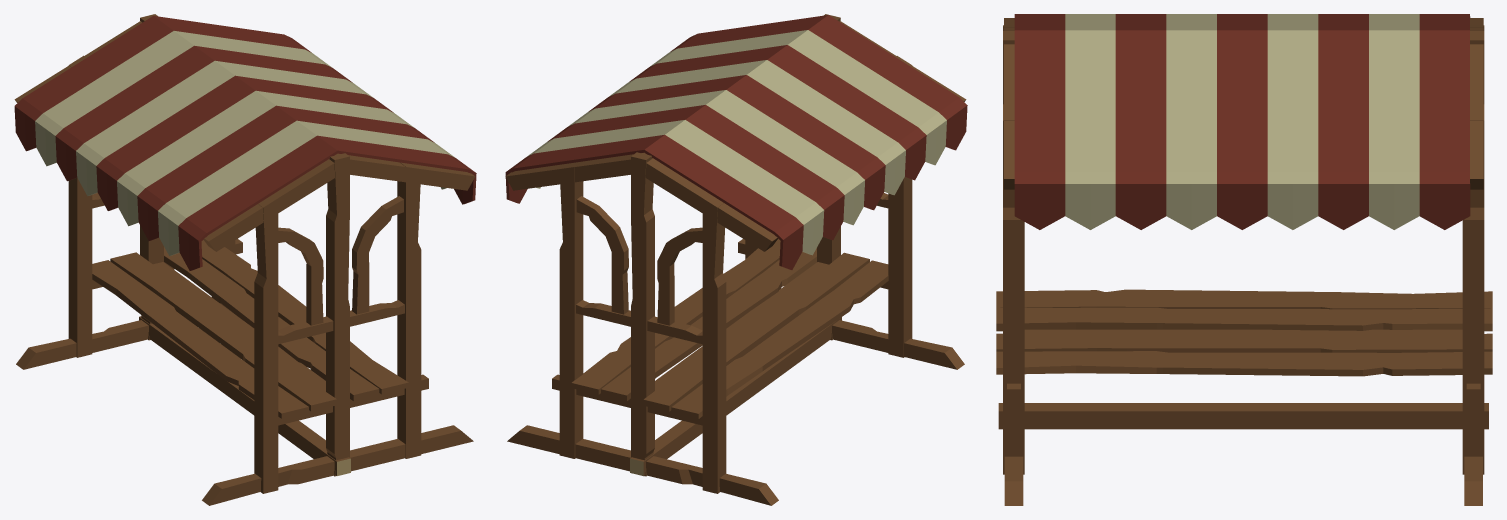
Rendered from MarketStand_1.glb.
The picture shows the model from 3 angles, left to right: view 1: azimuth 30°, elevation 25°; view 2: azimuth 150°, elevation 25°; view 3: azimuth 270°, elevation 25°; orthographic projection. The views are drawn at different scales.
Parts seen in each view (by area): view 1: MarketStand_1; view 2: MarketStand_1; view 3: MarketStand_1.
Boxes of the visible parts, x1,y1,x2,y2 form: MarketStand_1: (14, 14, 476, 505); MarketStand_1: (505, 14, 967, 505); MarketStand_1: (996, 14, 1492, 505).
Bounding box in the file's own units: 0.9509 × 1.05 × 1.19.
